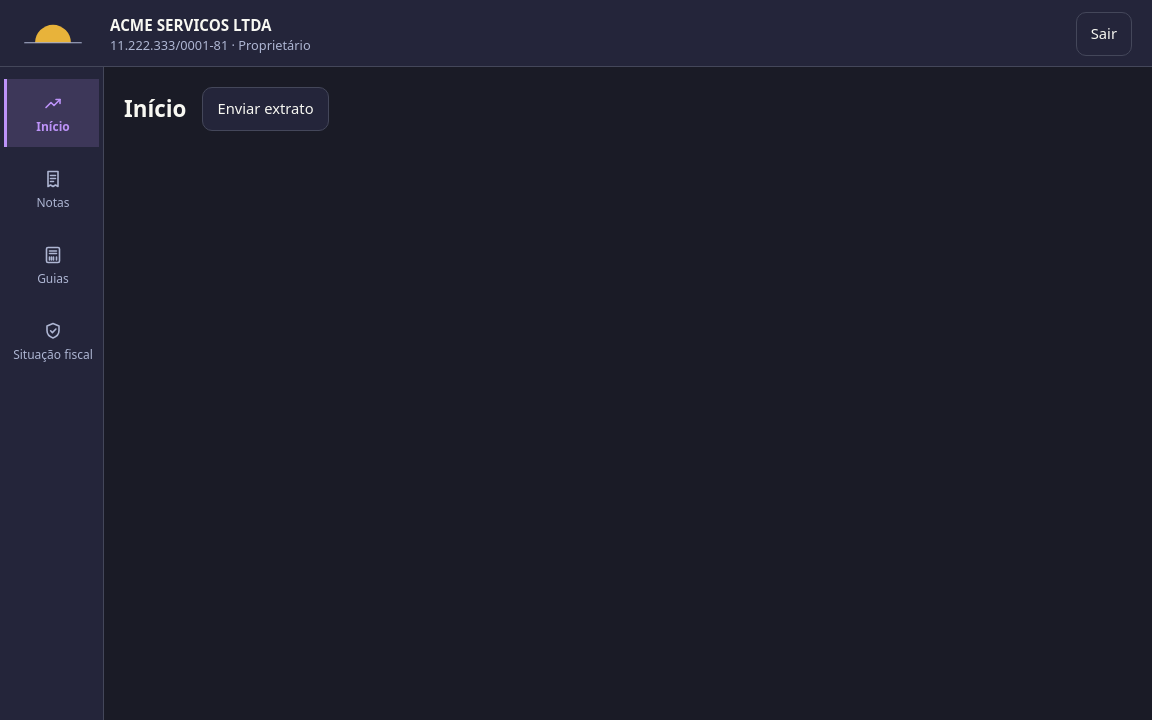
Test: clicar numa nota emitida abre a EMISSÃO pré-preenchida › o tomador vem da nota sem quadro explicativo
The image size is (1152, 720).
What coordinates should you click on to do the following:
click the link "Notas"
I would click on:
 (53, 190)
Its box is [36,168,70,210].
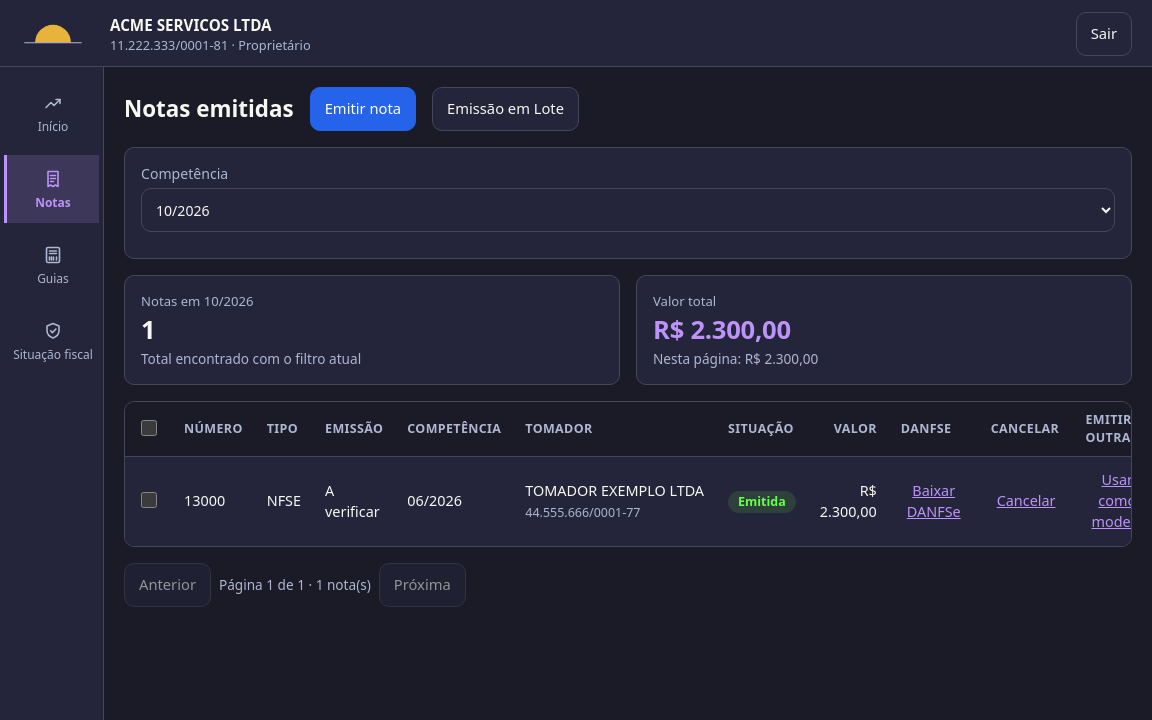
expect the heading "Notas emitidas" is shown: met, box [124,94,294,124]
What coordinates should you click on to do the following:
click the button "Usar como modelo"
I would click on:
 (1117, 502)
Its box is [1086,466,1149,537].
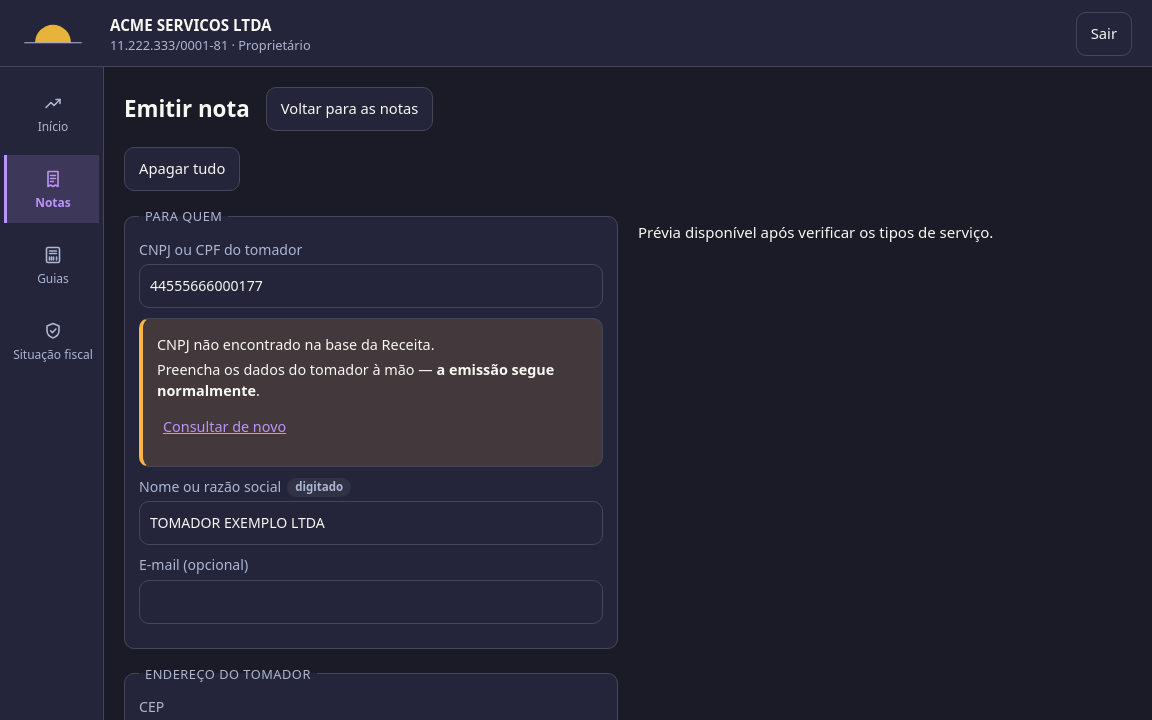
expect the field with id "emitir-doc" holds "44555666000177": met, box [139,264,603,308]
expect the field with id "emitir-nome" holds "TOMADOR EXEMPLO LTDA": met, box [139,501,603,545]
